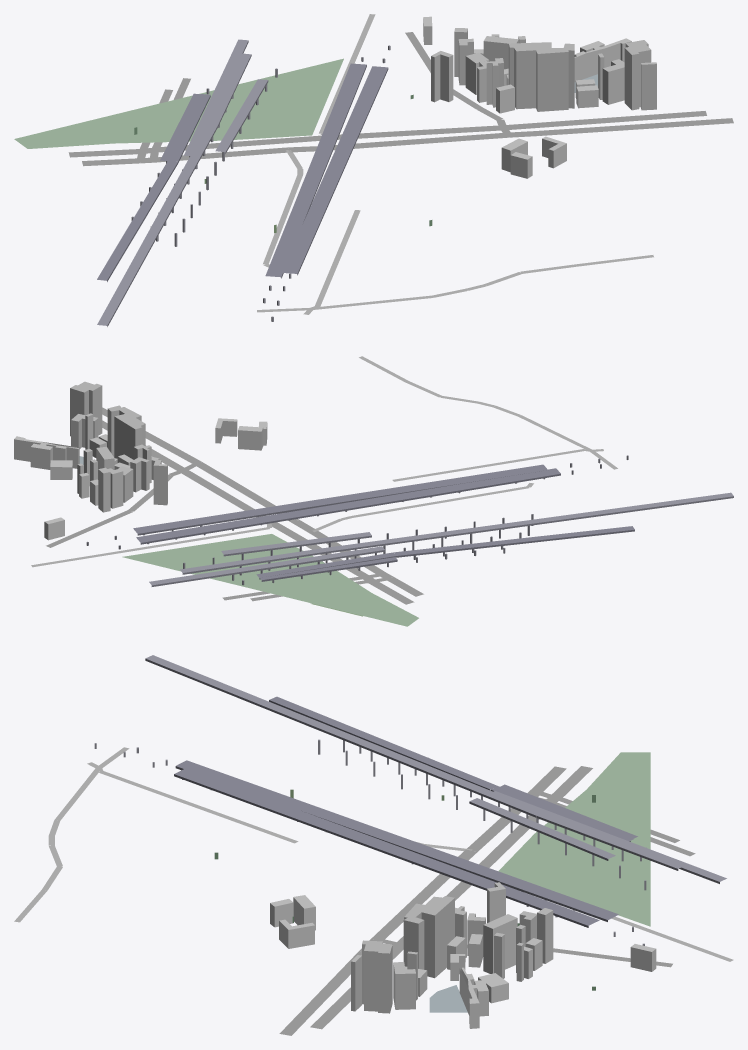
The picture shows the model from 3 angles, top to bottom: view 1: azimuth 30°, elevation 25°; view 2: azimuth 150°, elevation 25°; view 3: azimuth 270°, elevation 25°; orthographic projection. The views are drawn at different scales.
Size of the model in its own units: 695 by 60.57 by 572.
